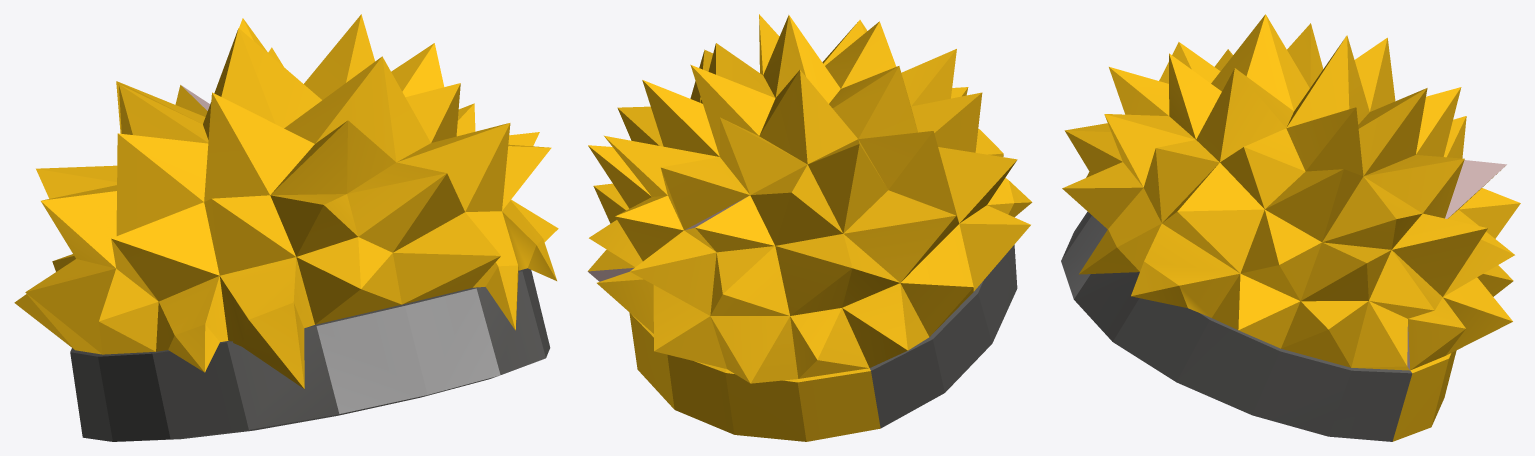
The model's file is naruto_hair.fbx.
3 views of the same model, side by side, from view 1: azimuth 30°, elevation 25°; view 2: azimuth 150°, elevation 25°; view 3: azimuth 270°, elevation 25° (orthographic). The views are drawn at different scales.
Parts seen in each view (by area): view 1: naruto_hair; view 2: naruto_hair; view 3: naruto_hair.
Boxes of the visible parts, box(x1,y1,x2,y2) form: naruto_hair: box(14, 14, 558, 441); naruto_hair: box(587, 14, 1032, 441); naruto_hair: box(1061, 14, 1520, 441).
Size of the model in its own units: 127 by 105 by 124.
